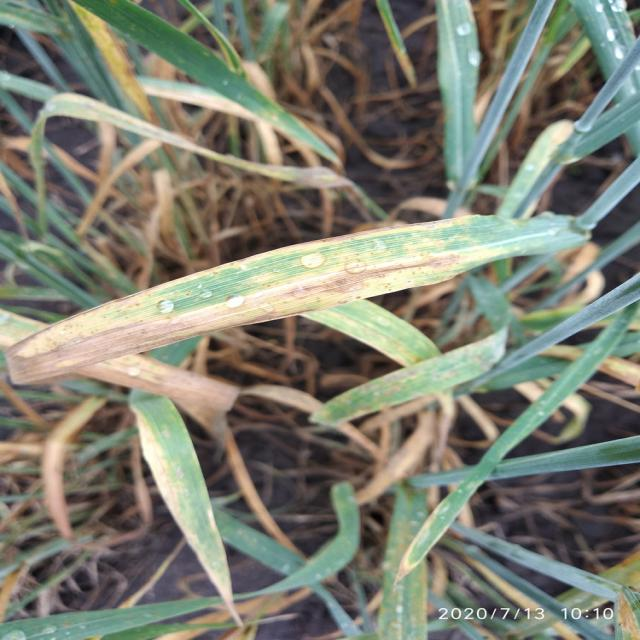wheat-septoria: (4, 214, 587, 387)
